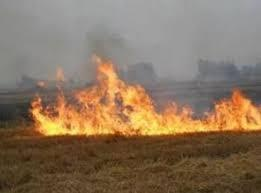fire: (20, 56, 255, 136)
